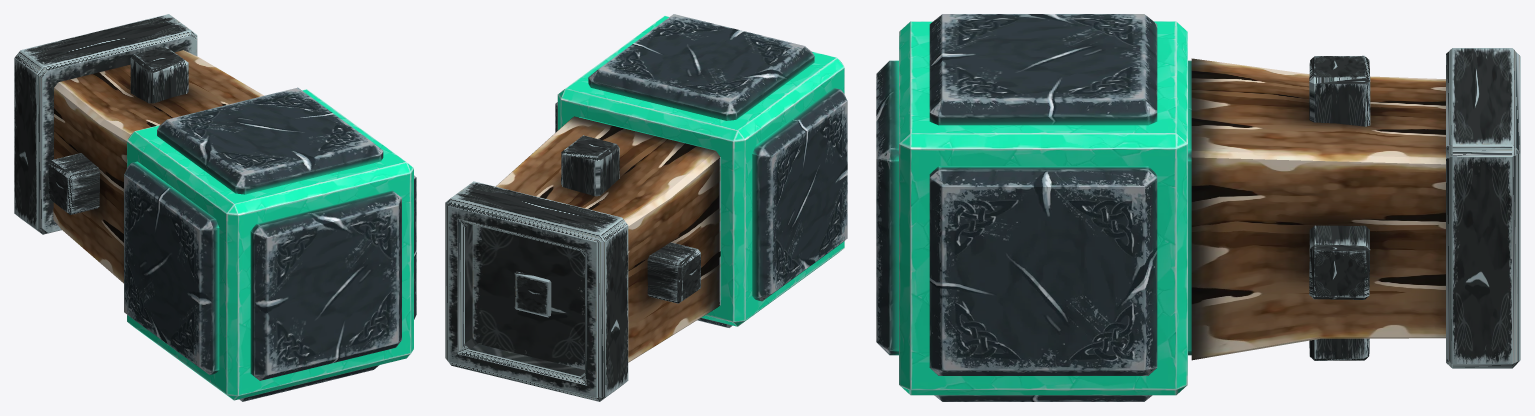
File: step_002.glb
3 views of the same model, side by side, from view 1: azimuth 30°, elevation 25°; view 2: azimuth 150°, elevation 25°; view 3: azimuth 270°, elevation 25° (orthographic). The views are drawn at different scales.
Parts seen in each view (by area): view 1: StartingBlock_71495246-291b-49d8-9ca8-68c87e015d7b, SingleWoodenBlock_27d09ec1-9df3-475f-a4f9-4b6f61505be6; view 2: SingleWoodenBlock_27d09ec1-9df3-475f-a4f9-4b6f61505be6, StartingBlock_71495246-291b-49d8-9ca8-68c87e015d7b; view 3: StartingBlock_71495246-291b-49d8-9ca8-68c87e015d7b, SingleWoodenBlock_27d09ec1-9df3-475f-a4f9-4b6f61505be6.
Boxes of the visible parts, x1,y1,x2,y2 form: StartingBlock_71495246-291b-49d8-9ca8-68c87e015d7b: (124, 87, 416, 401); SingleWoodenBlock_27d09ec1-9df3-475f-a4f9-4b6f61505be6: (14, 14, 263, 283); SingleWoodenBlock_27d09ec1-9df3-475f-a4f9-4b6f61505be6: (445, 116, 720, 401); StartingBlock_71495246-291b-49d8-9ca8-68c87e015d7b: (555, 14, 847, 327); StartingBlock_71495246-291b-49d8-9ca8-68c87e015d7b: (876, 14, 1191, 401); SingleWoodenBlock_27d09ec1-9df3-475f-a4f9-4b6f61505be6: (1191, 48, 1520, 368).
Bounding box in the file's own units: 1.13 × 1.13 × 2.17.
2 materials, 2 textured.
